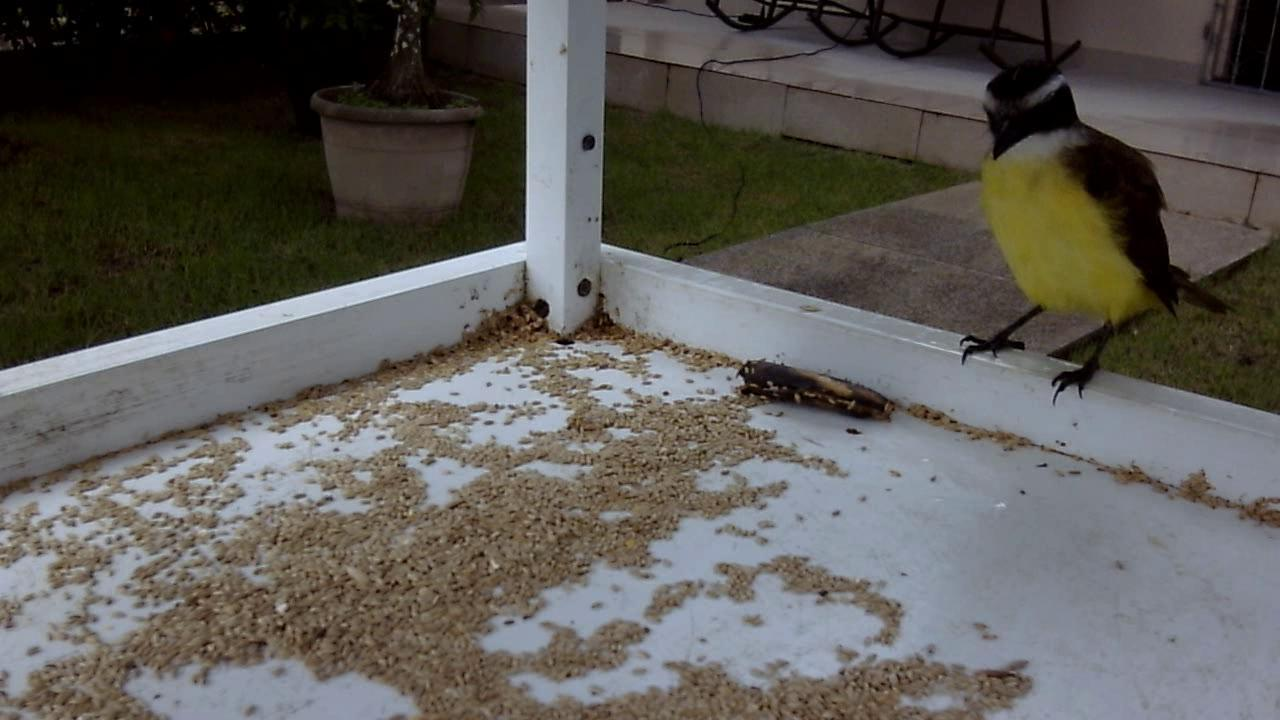bem_te_vi: (939, 42, 1239, 425)
